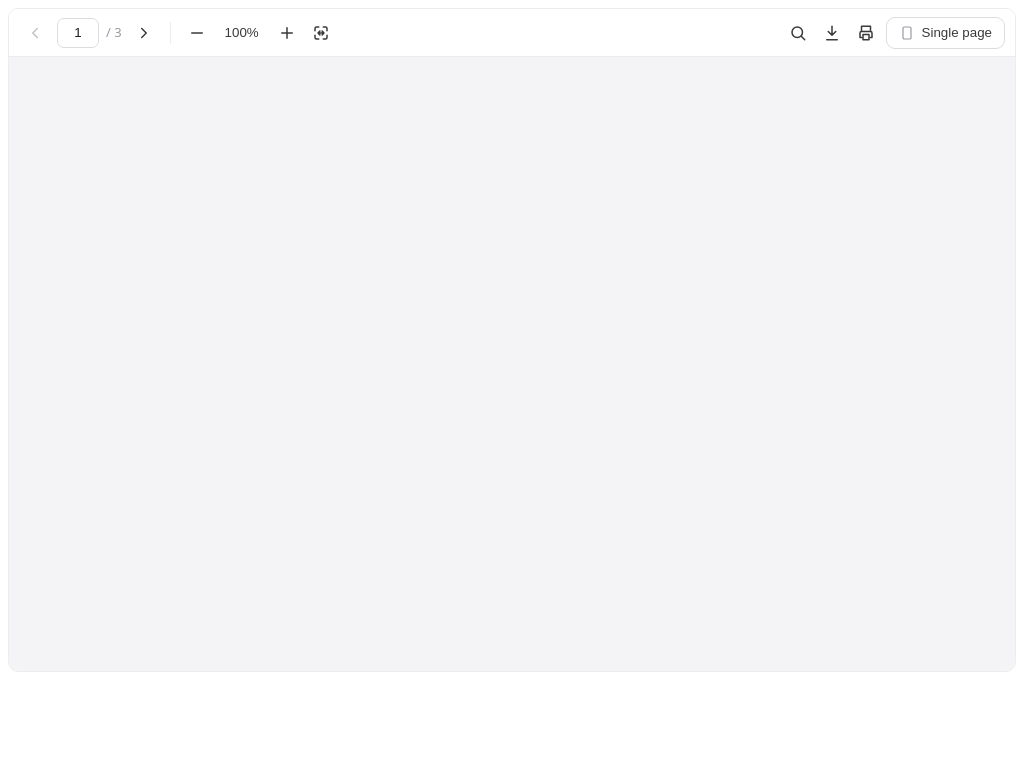
<DocViewer> search integration › shows a search button only when the document supports search, and searches through the controller
Click the button named "Search": click(798, 32) [782,16,814,48]
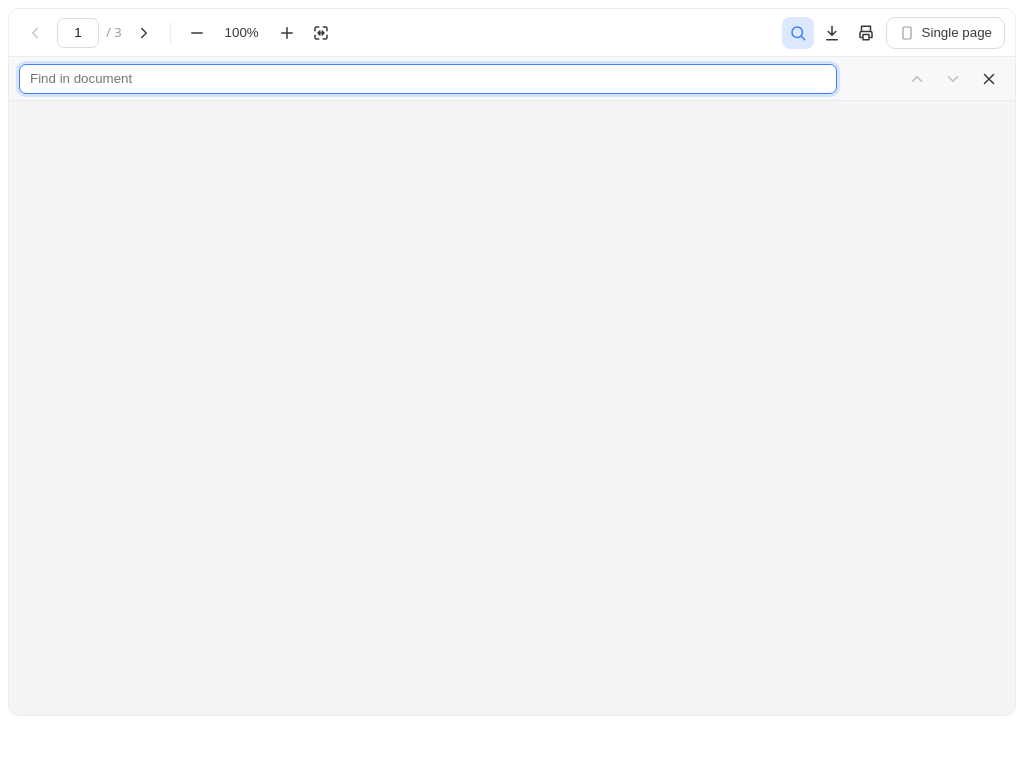
In the search field: (428, 78) [19,64,837,94], type "fox"
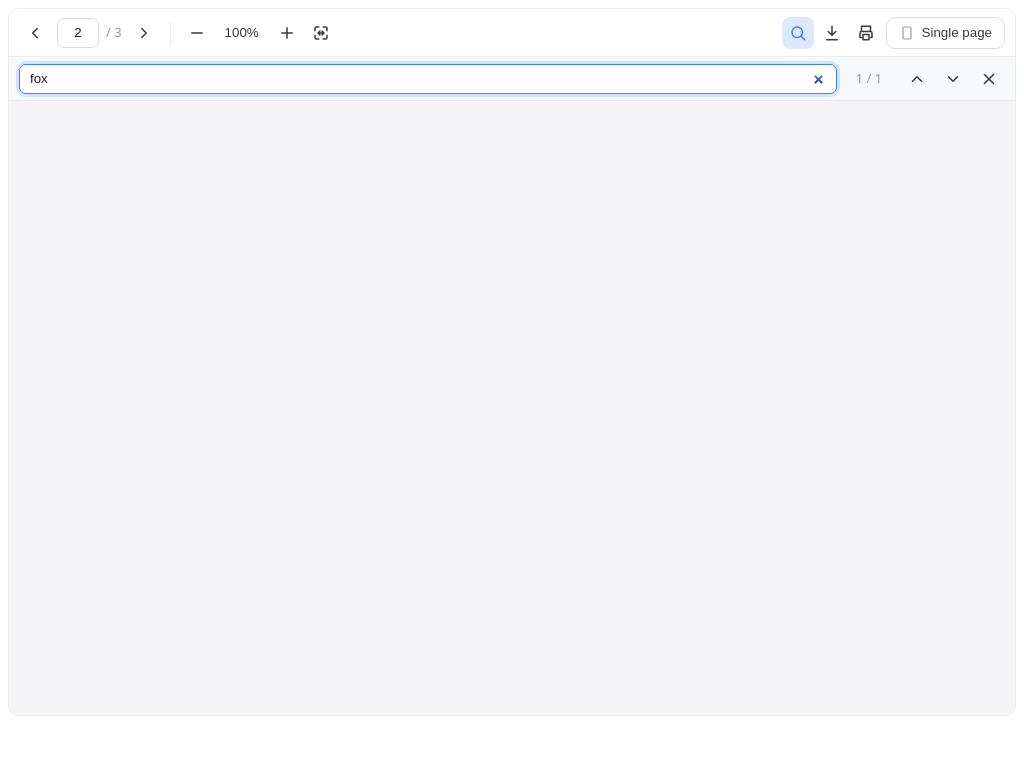
expect the text "1 / 1" is shown: met, box [856,69,882,87]
expect the field named "Page number" holds "2": met, box [57,18,99,48]
